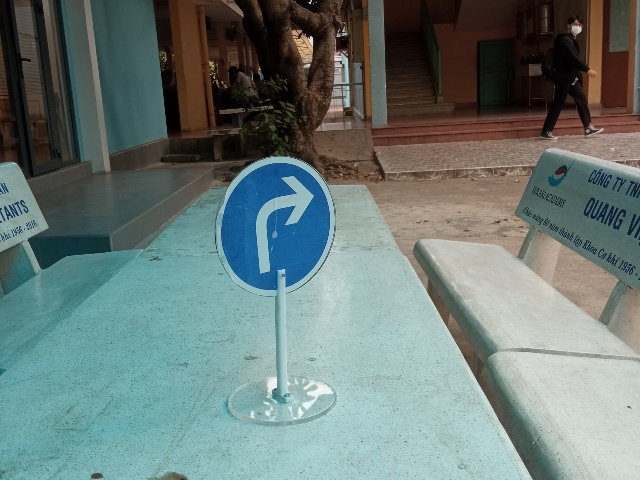Right_Sign: (214, 155, 334, 297)
